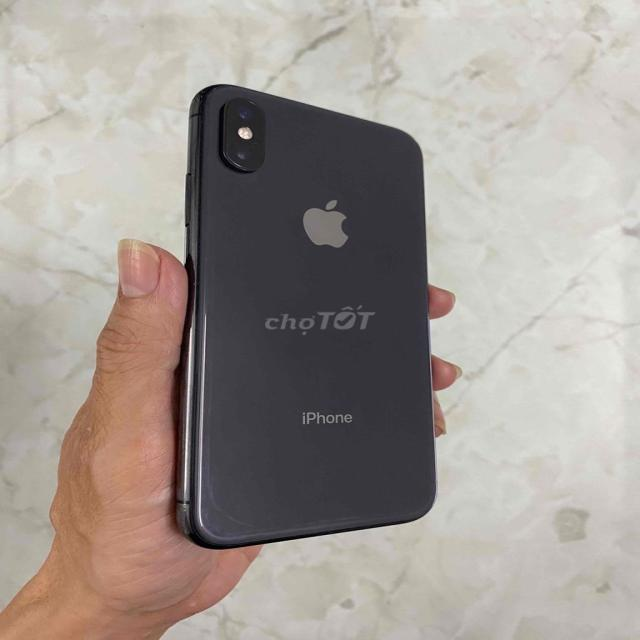scratch: (187, 73, 240, 114)
